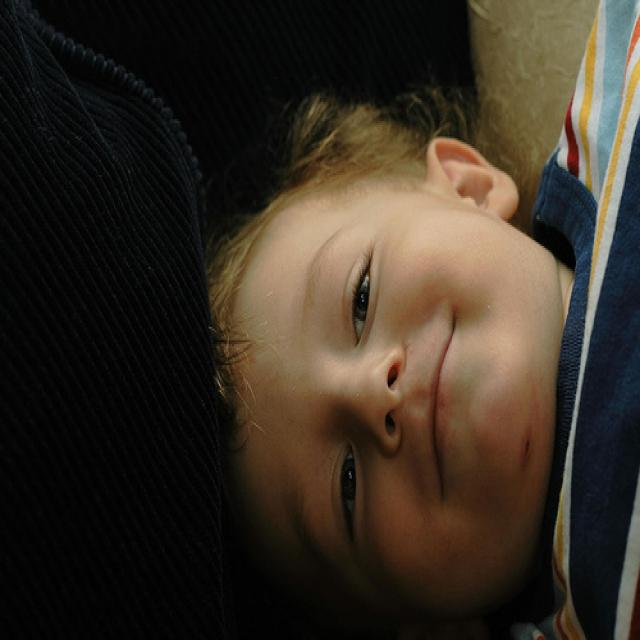person: (199, 1, 640, 639)
